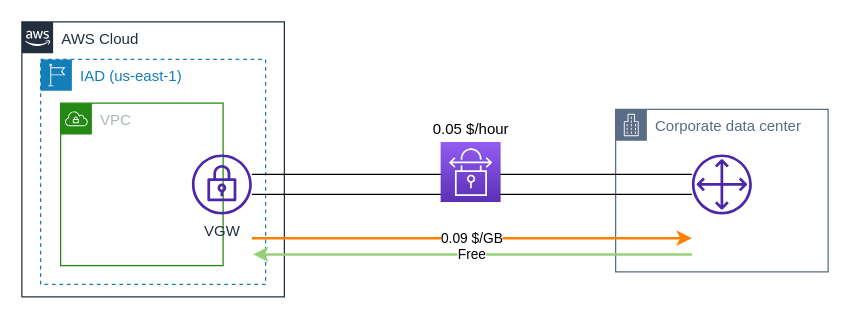
The diagram is 850 pixels wide and 319 high, and some of its shapes have lost their labels. Here are the shapes that lost their labels. From the top down, the centre of each, then its label:
(470,171): Site-to-Site VPN
(721,184): CGW
